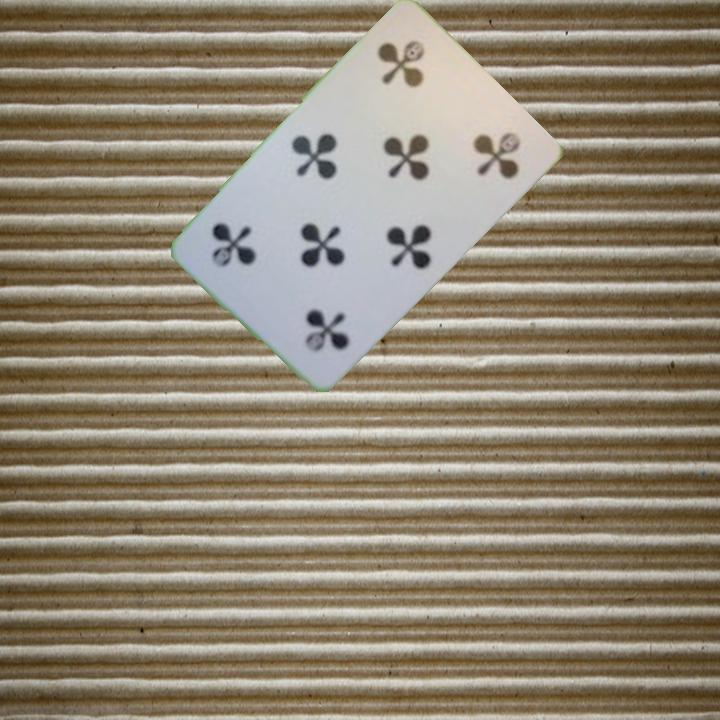c_8.png: (347, 15, 477, 144), (248, 249, 377, 378)
